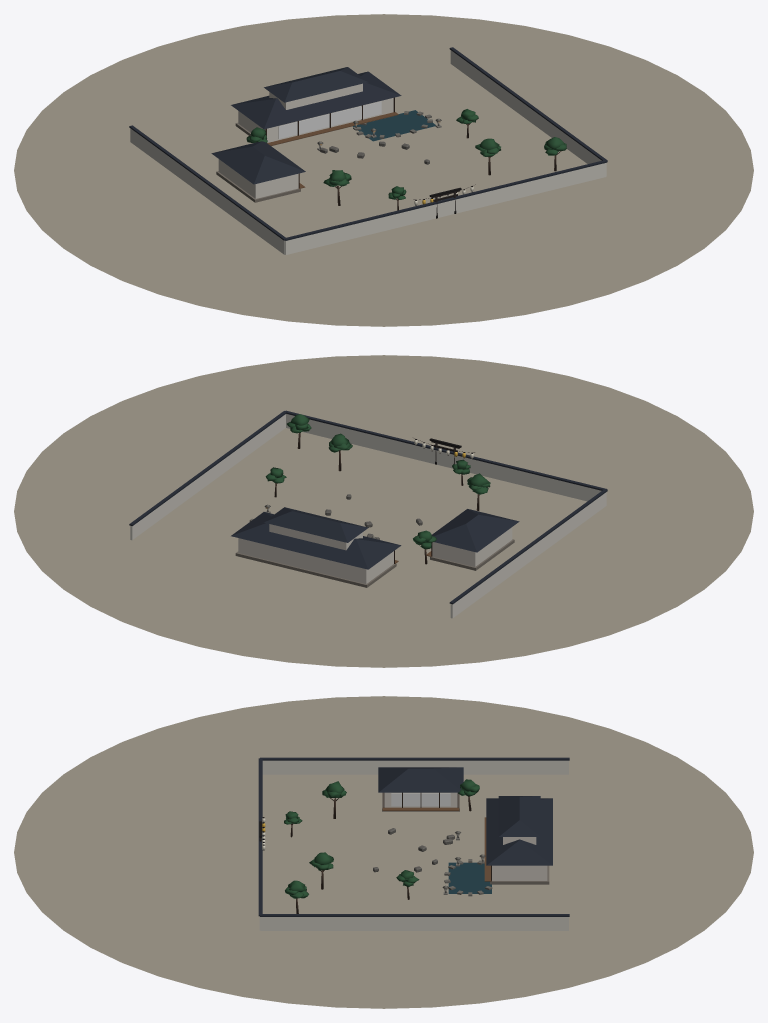
Rendered from estate.glb.
The picture shows the model from 3 angles, top to bottom: view 1: azimuth 30°, elevation 25°; view 2: azimuth 150°, elevation 25°; view 3: azimuth 270°, elevation 25°; orthographic projection.
Visible parts, largest first — view 1: estate_0_0, estate_-1_0, estate_0_-1, estate_-1_-1; view 2: estate_0_0, estate_-1_0, estate_0_-1, estate_-1_-1; view 3: estate_0_0, estate_-1_0, estate_-1_-1, estate_0_-1.
Part boxes in pixels (x1,y1,x2,y2): estate_0_0: (14,14,753,326); estate_-1_0: (129,67,389,254); estate_0_-1: (285,137,606,254); estate_-1_-1: (285,160,607,240); estate_0_0: (14,355,753,667); estate_-1_0: (235,489,607,618); estate_0_-1: (286,414,601,501); estate_-1_-1: (286,410,607,510); estate_0_0: (14,696,753,1008); estate_-1_0: (260,757,569,884); estate_-1_-1: (258,758,384,916); estate_0_-1: (259,821,378,930).
Bounding box in the file's own units: 120 × 7.93 × 120.
